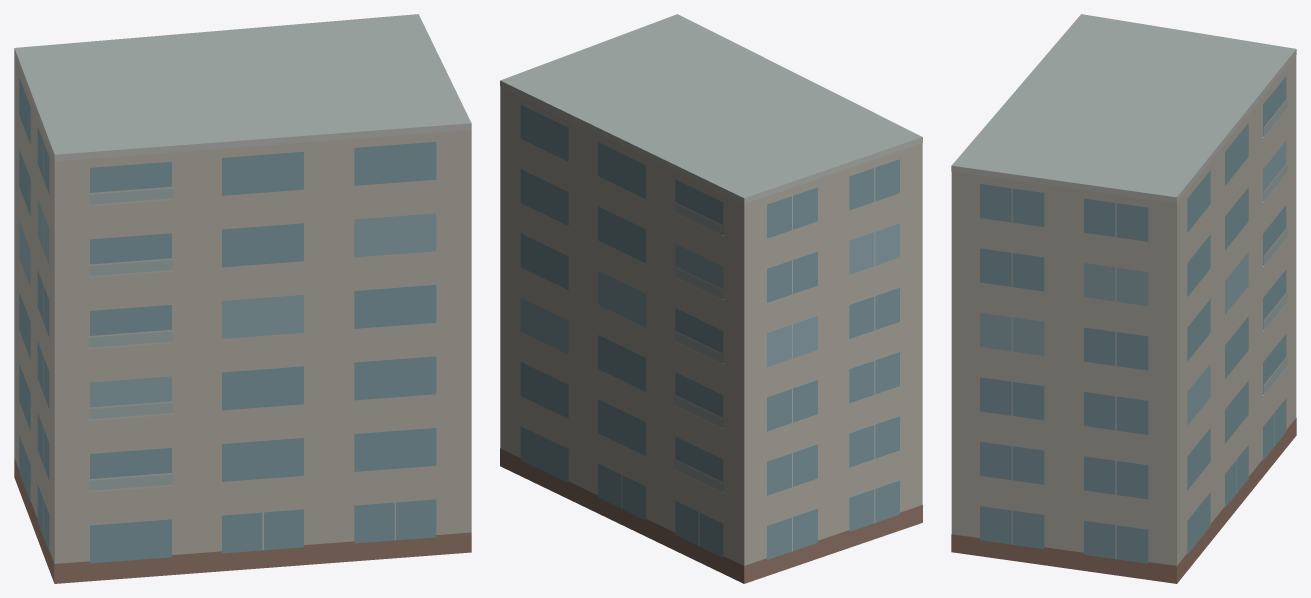
The model's file is survey-upis-33037228.glb.
3 views of the same model, side by side, from view 1: azimuth 30°, elevation 25°; view 2: azimuth 150°, elevation 25°; view 3: azimuth 270°, elevation 25° (orthographic). The views are drawn at different scales.
Visible parts, largest first — view 1: survey-upis-33037228.tmp; view 2: survey-upis-33037228.tmp; view 3: survey-upis-33037228.tmp.
Boxes of the visible parts, x1,y1,x2,y2 form: survey-upis-33037228.tmp: [14, 14, 471, 583]; survey-upis-33037228.tmp: [500, 14, 922, 583]; survey-upis-33037228.tmp: [951, 14, 1296, 583].
Bounding box in the file's own units: 16.39 × 16.1 × 13.03.
